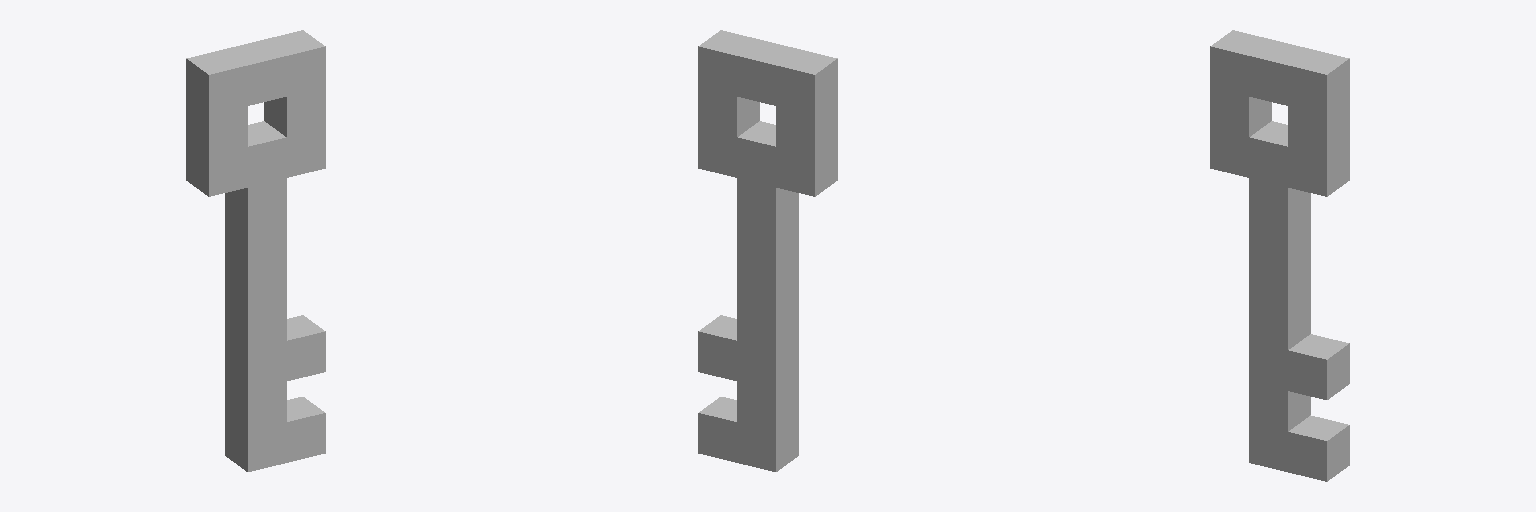
File: key.obj
The picture shows the model from 3 angles: view 1: azimuth 30°, elevation 25°; view 2: azimuth 150°, elevation 25°; view 3: azimuth 330°, elevation 25°; orthographic projection.
Visible parts, largest first — view 1: object 1; view 2: object 1; view 3: object 1.
Part boxes in pixels (bbox=[...]): object 1: bbox=[186, 30, 325, 471]; object 1: bbox=[698, 30, 837, 471]; object 1: bbox=[1210, 30, 1349, 481].
Size of the model in its own units: 0.3 by 1 by 0.1.